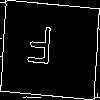F: (25, 25, 54, 74)
